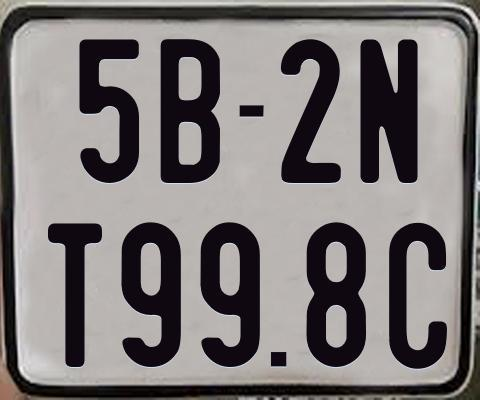2: (278, 36, 344, 184)
5: (79, 36, 140, 182)
8: (304, 220, 368, 371)
9: (119, 219, 183, 368), (200, 220, 261, 371)
B: (159, 39, 223, 188)
C: (387, 223, 447, 372)
N: (357, 38, 417, 183)
T: (47, 222, 104, 370)
